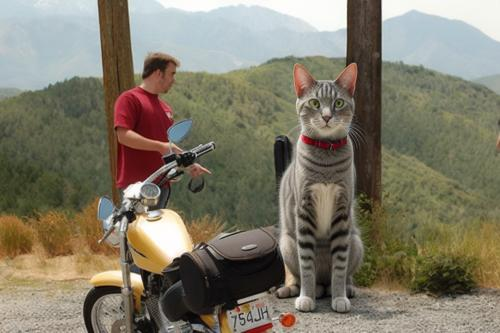cat: (275, 57, 371, 312)
motorbike: (83, 121, 298, 332)
person: (115, 53, 213, 213)
person/hand: (189, 164, 211, 178), (163, 142, 184, 155)
person/head: (141, 54, 177, 93)
